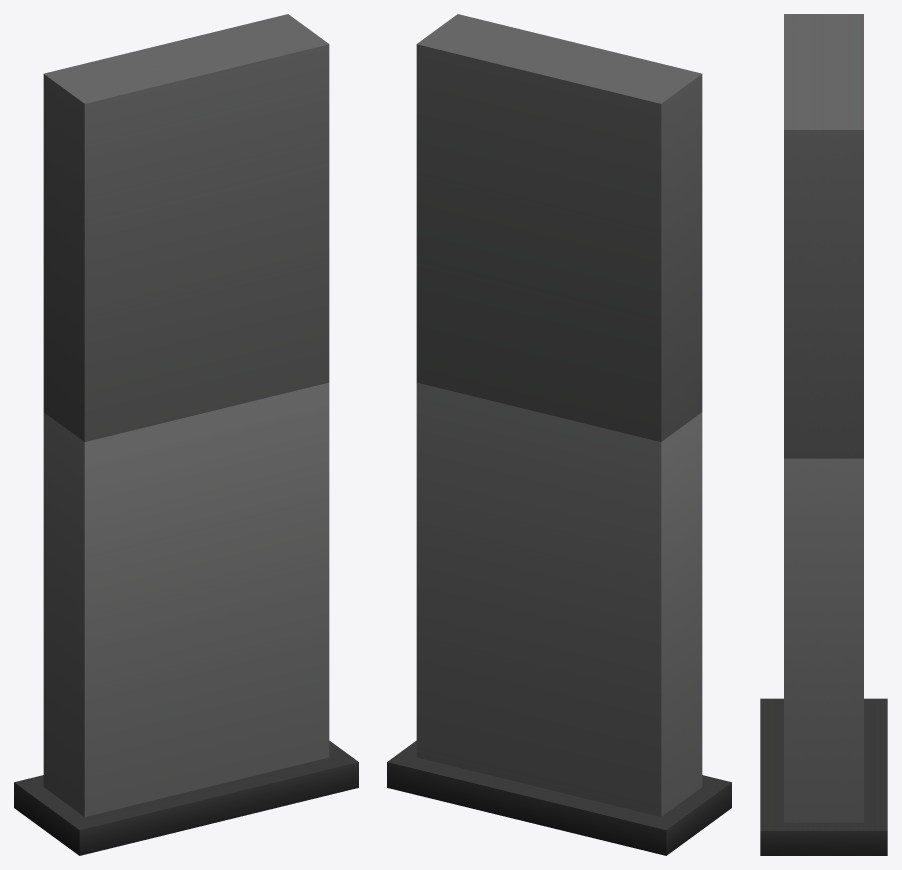
The model's file is geo_warehouseWall.fbx.
3 views of the same model, side by side, from view 1: azimuth 30°, elevation 25°; view 2: azimuth 150°, elevation 25°; view 3: azimuth 270°, elevation 25° (orthographic). The views are drawn at different scales.
Parts seen in each view (by area): view 1: geo_warehouseWall; view 2: geo_warehouseWall; view 3: geo_warehouseWall.
Part boxes in pixels (x1,y1,x2,y2): geo_warehouseWall: (14, 14, 358, 855); geo_warehouseWall: (387, 14, 731, 855); geo_warehouseWall: (760, 14, 887, 855).
Size of the model in its own units: 383 by 968 by 156.
1 material, 1 textured.
